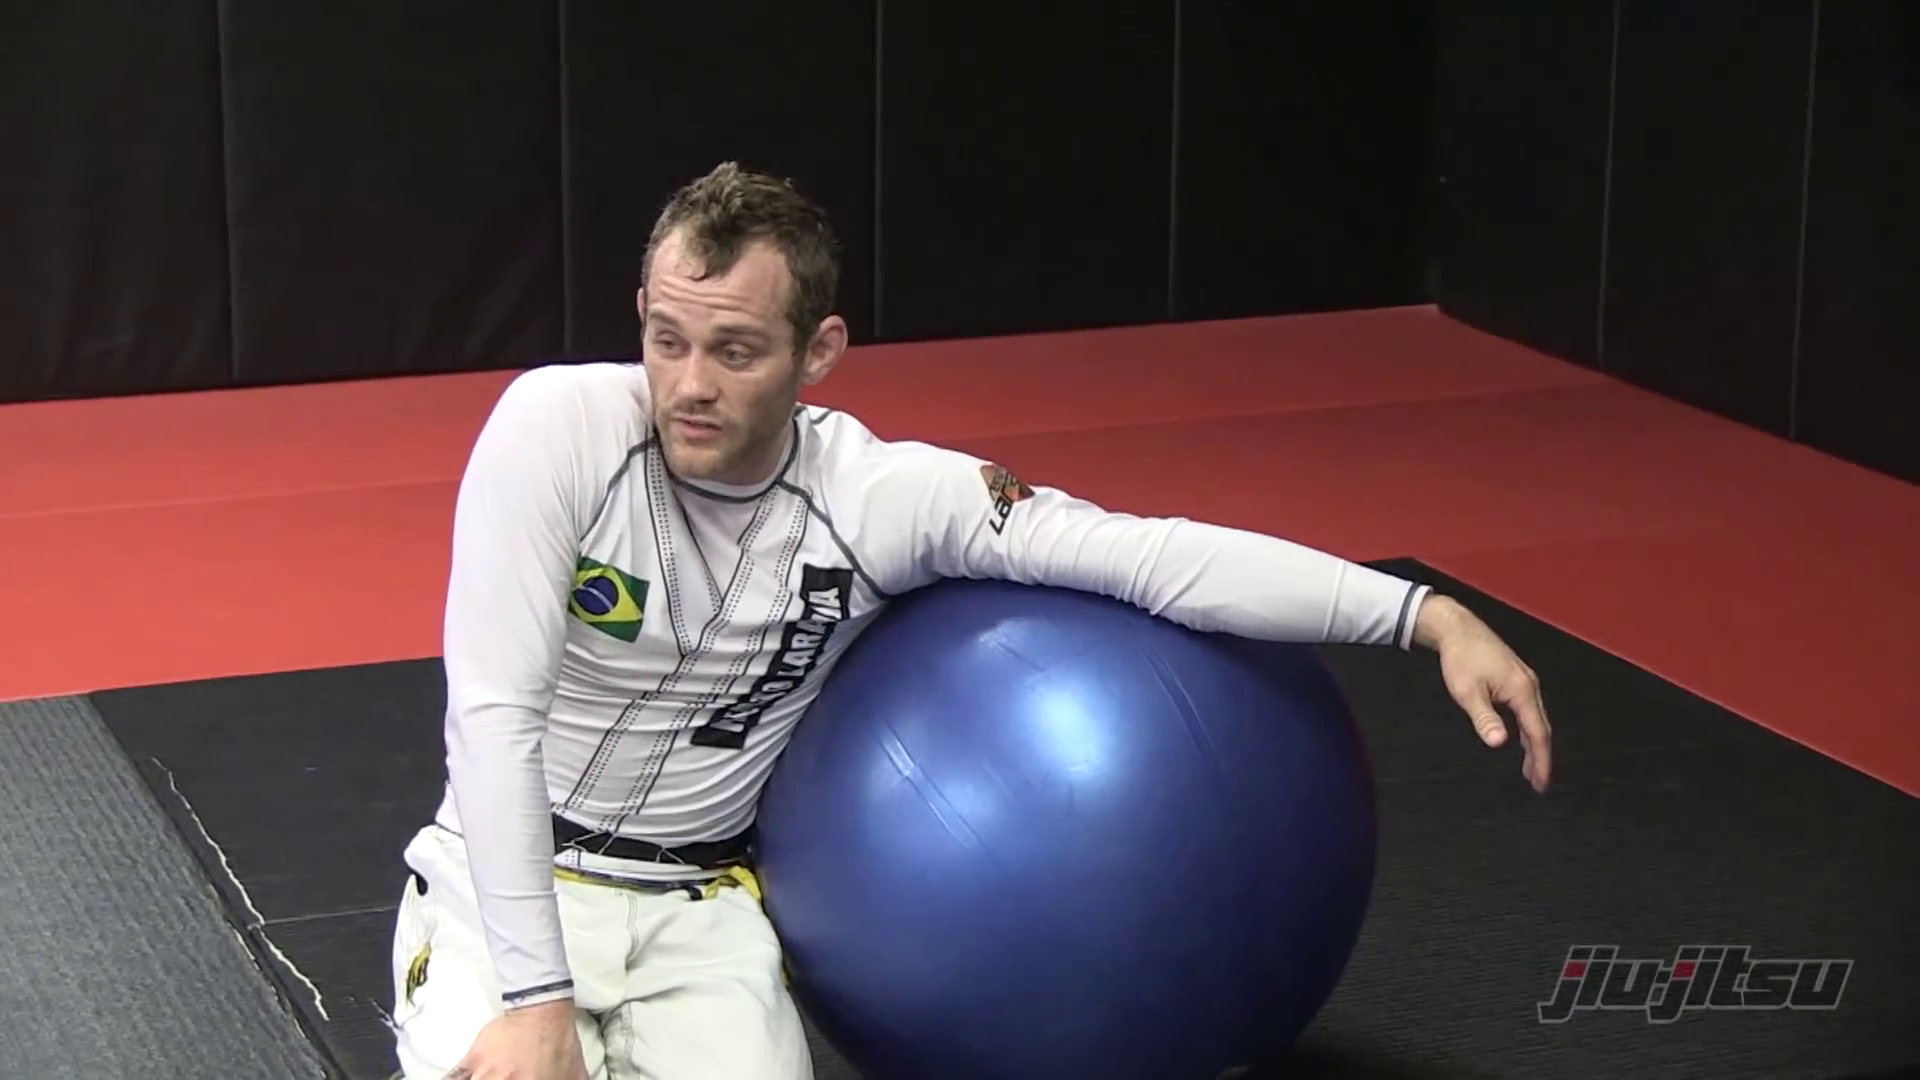yogaball: (724, 568, 1400, 1060)
